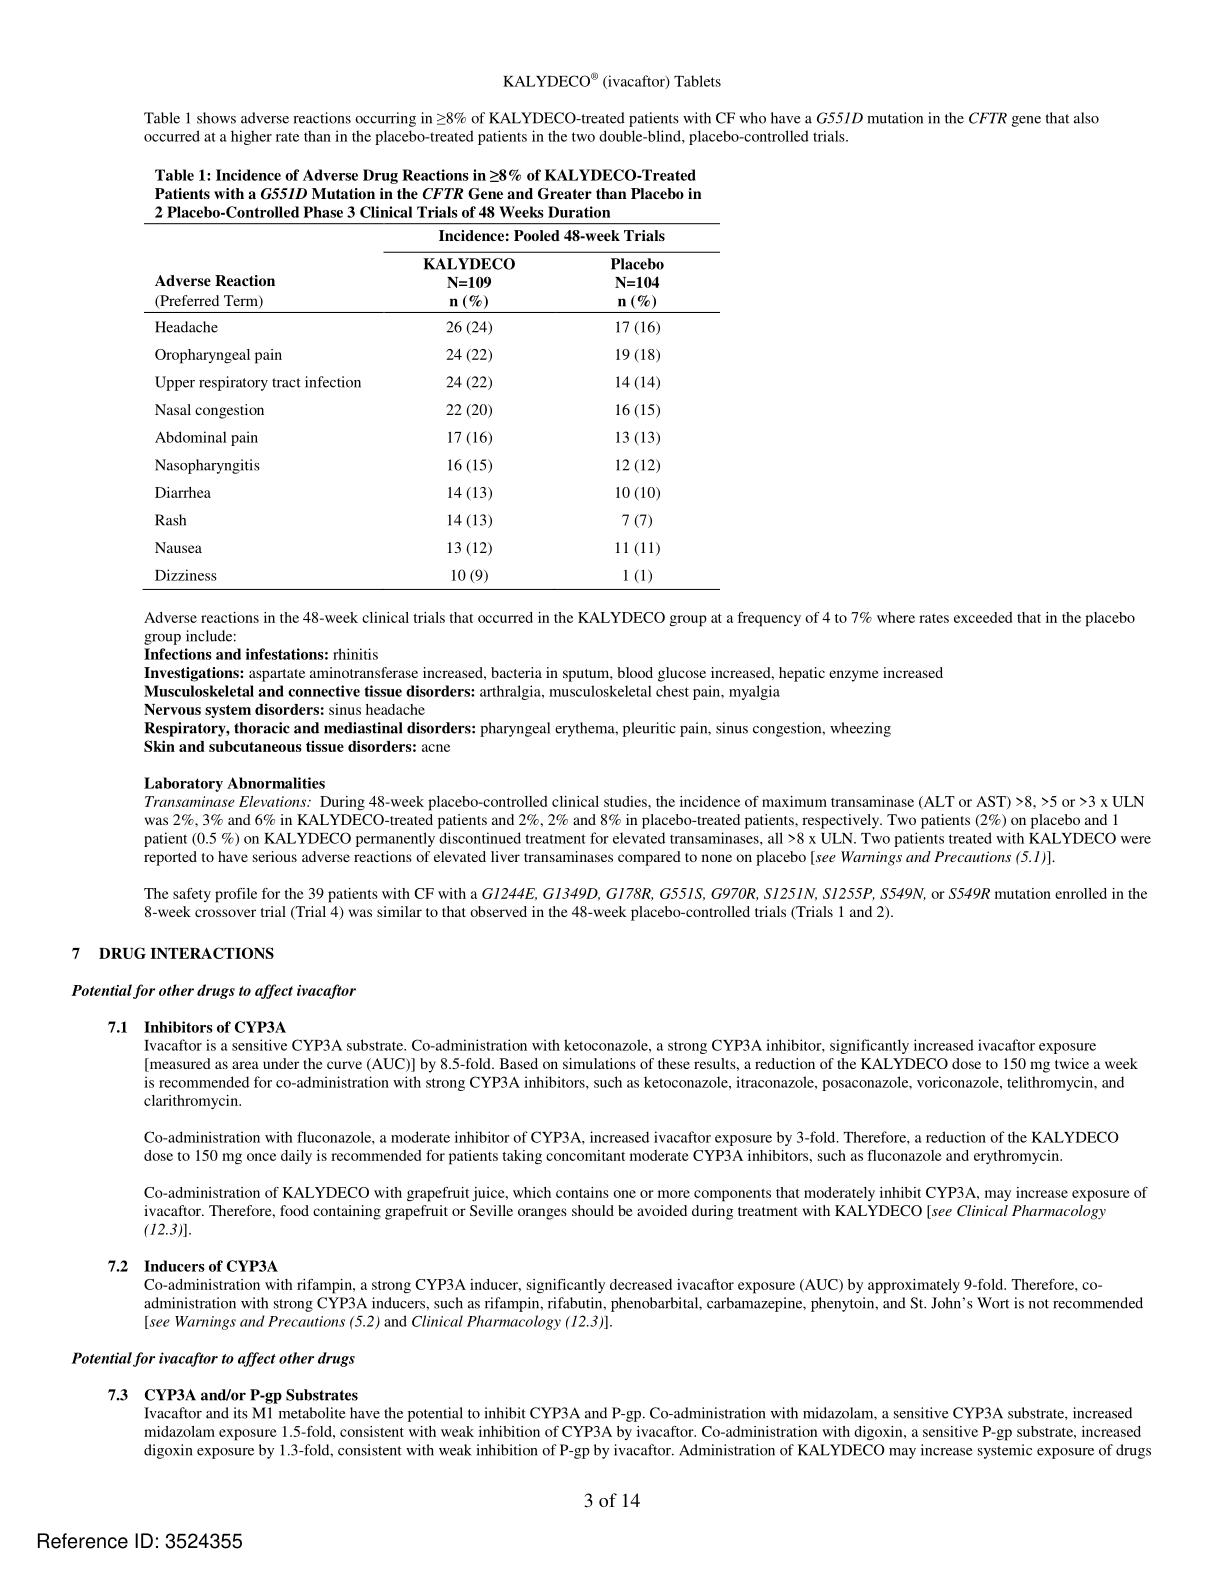partial_lined_merged_cells: (141, 221, 721, 591)
